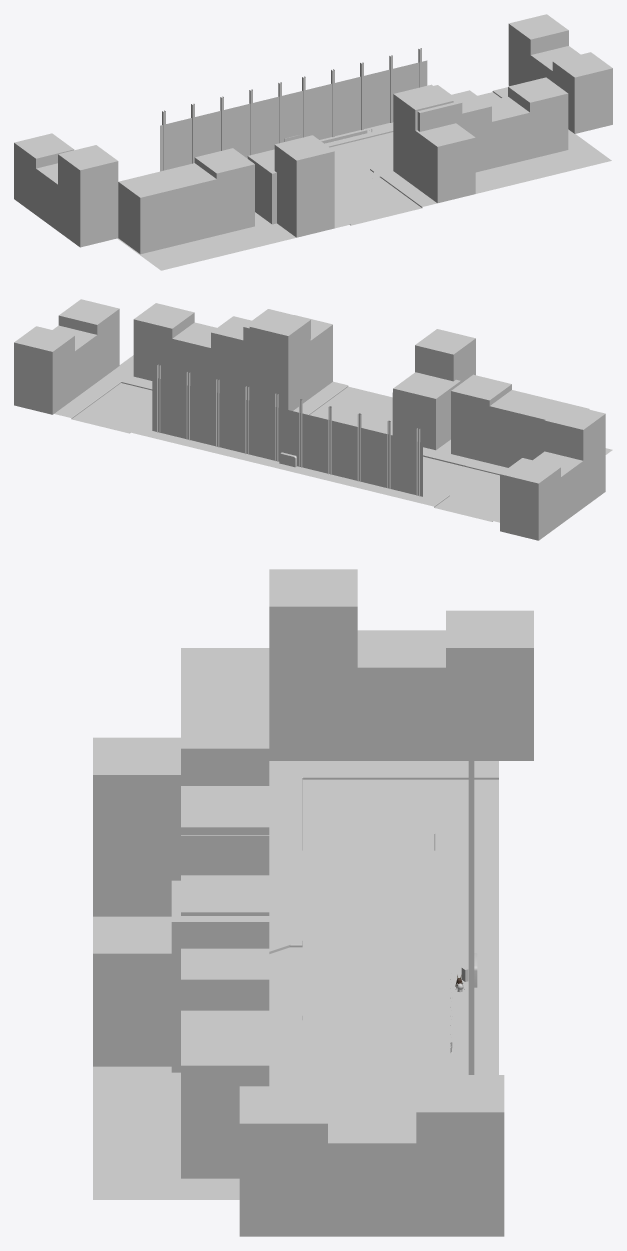
File: Blocking Escenario.fbx
3 views of the same model, one above another, from view 1: azimuth 30°, elevation 25°; view 2: azimuth 150°, elevation 25°; view 3: azimuth 270°, elevation 25° (orthographic). The views are drawn at different scales.
Visible parts, largest first — view 1: Plane.002, Plane.004, Cube.018, Cube.014, Cube.017, Cube.006, Cube.013, Cube.015, Cube.010, Cube.016, Plane, Cube.004 (+10 smaller); view 2: Plane.004, Plane.002, Cube.020, Cube.022, Cube.018, Cube.012, Plane, Cube.015, Cube.011, Cube.010, Cube.016, Cube.004 (+10 smaller); view 3: Plane.002, Plane.001, Cube.018, Cube.014, Cube.020, Cube.013, Cube.022, Cube.006, Cube.019, Cube.021, Cube.010, Cube.015 (+9 smaller).
Boxes of the visible parts, left/top/right/bottom form: Plane.002: left=117, top=87, right=611, bottom=270; Plane.004: left=160, top=60, right=427, bottom=171; Cube.018: left=58, top=145, right=118, bottom=247; Cube.014: left=274, top=135, right=334, bottom=237; Cube.017: left=118, top=172, right=178, bottom=254; Cube.006: left=415, top=123, right=475, bottom=203; Cube.013: left=552, top=52, right=612, bottom=133; Cube.015: left=194, top=148, right=254, bottom=235; Cube.010: left=508, top=77, right=568, bottom=159; Cube.016: left=157, top=163, right=216, bottom=244; Plane: left=160, top=80, right=424, bottom=165; Cube.004: left=393, top=84, right=453, bottom=186; Plane.004: left=152, top=377, right=422, bottom=490; Plane.002: left=54, top=355, right=612, bottom=522; Cube.020: left=14, top=326, right=74, bottom=414; Cube.022: left=500, top=458, right=560, bottom=540; Cube.018: left=544, top=404, right=605, bottom=507; Cube.012: left=393, top=372, right=460, bottom=450; Plane: left=155, top=409, right=422, bottom=496; Cube.015: left=451, top=374, right=511, bottom=463; Cube.011: left=243, top=309, right=310, bottom=409; Cube.010: left=133, top=303, right=194, bottom=381; Cube.016: left=489, top=390, right=549, bottom=467; Cube.004: left=249, top=310, right=310, bottom=410; Plane.002: left=93, top=761, right=498, bottom=1199; Plane.001: left=269, top=850, right=477, bottom=1105; Cube.018: left=269, top=569, right=357, bottom=760; Cube.014: left=93, top=737, right=180, bottom=916; Cube.020: left=416, top=1075, right=504, bottom=1236; Cube.013: left=239, top=1086, right=327, bottom=1236; Cube.022: left=446, top=610, right=533, bottom=760; Cube.006: left=93, top=916, right=171, bottom=1066; Cube.019: left=328, top=1106, right=416, bottom=1236; Cube.021: left=357, top=630, right=445, bottom=760; Cube.010: left=181, top=1028, right=269, bottom=1178; Cube.015: left=181, top=711, right=269, bottom=785.
Size of the model in its own units: 16505 by 2368 by 6000.
